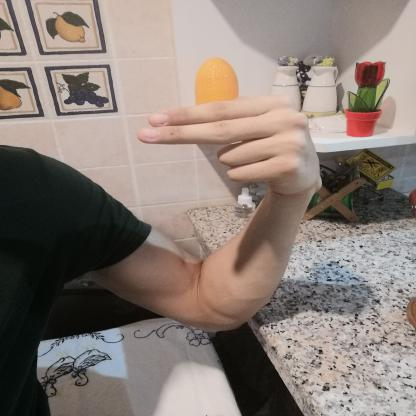AYN: (123, 89, 342, 210)
